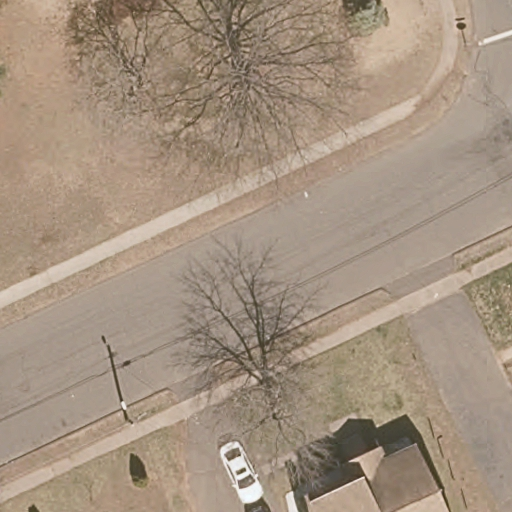DT: (119, 400, 137, 427)
